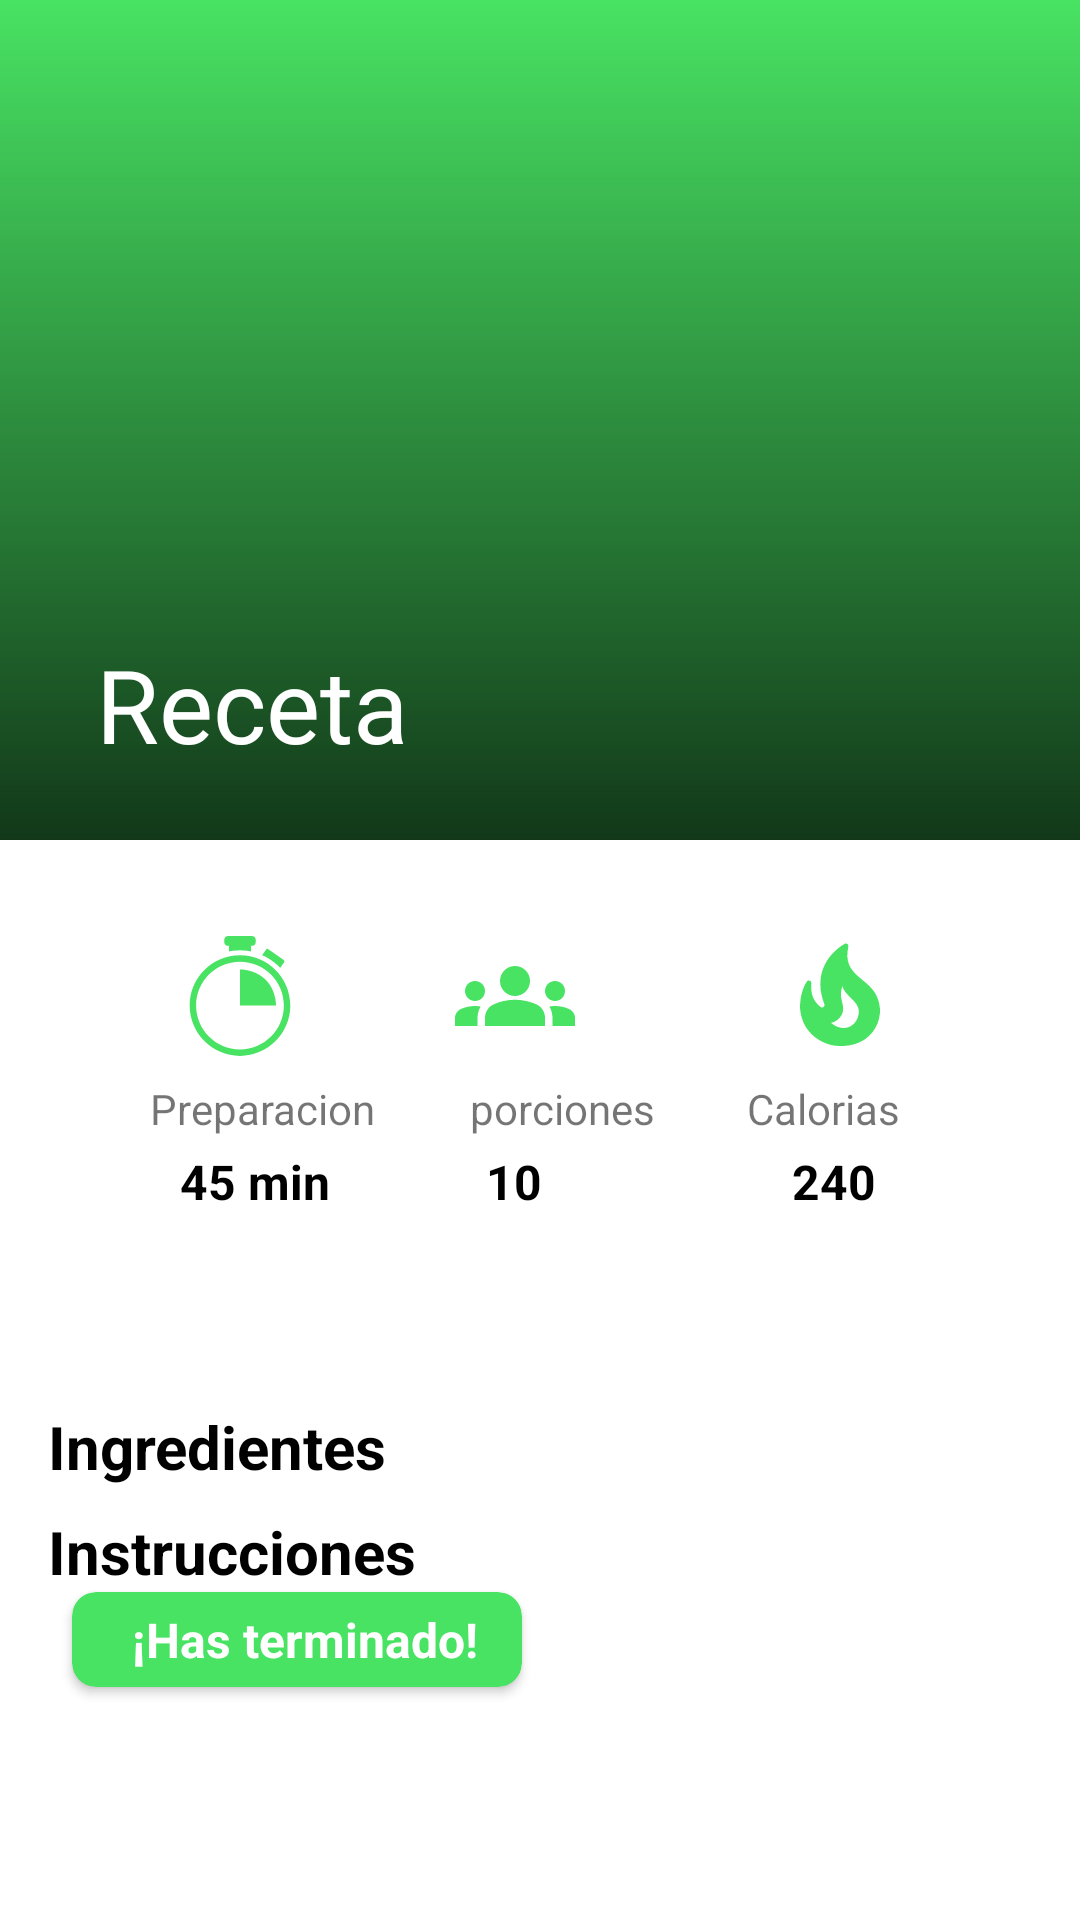

Locate icon controls on the screen. Image size 1080 × 1920, boxes as [x1=x1, y1=y1, x2=x2, y2=y2].
cronometro: [x1=189, y1=936, x2=291, y2=1056]
fire: [x1=800, y1=943, x2=880, y2=1046]
group user: [x1=455, y1=966, x2=575, y2=1026]
